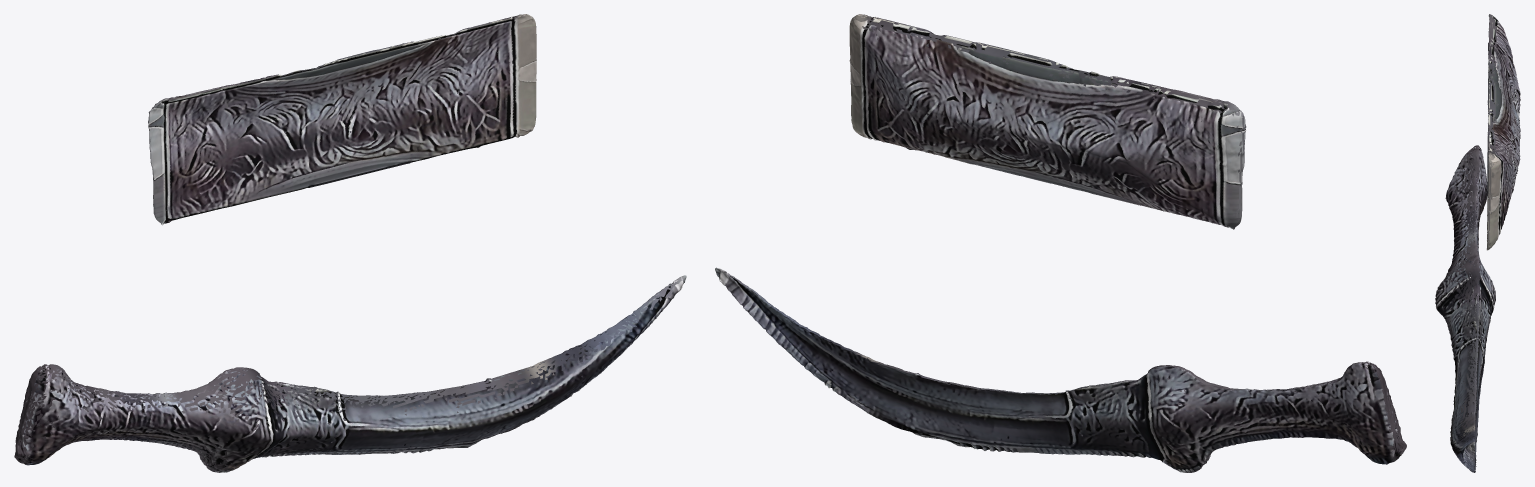
File: kfl-2179.glb
The picture shows the model from 3 angles, left to right: view 1: azimuth 30°, elevation 25°; view 2: azimuth 150°, elevation 25°; view 3: azimuth 270°, elevation 25°; orthographic projection. The views are drawn at different scales.
Parts seen in each view (by area): view 1: kfl-2179; view 2: kfl-2179; view 3: kfl-2179.
Boxes of the visible parts, bbox=[...] form: kfl-2179: bbox=[14, 14, 686, 472]; kfl-2179: bbox=[715, 14, 1406, 472]; kfl-2179: bbox=[1435, 14, 1520, 472].
Bounding box in the file's own units: 0.986 × 0.5751 × 0.1382.
Materials: 3 (3 with a texture image).
